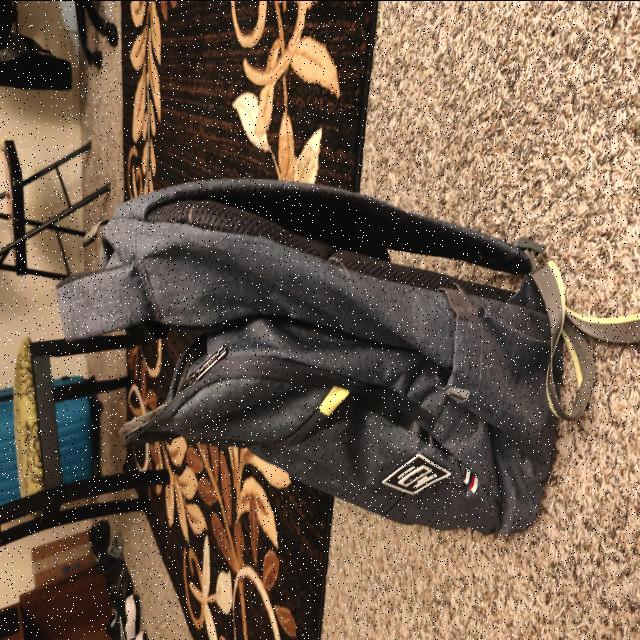bag: (55, 189, 552, 534)
